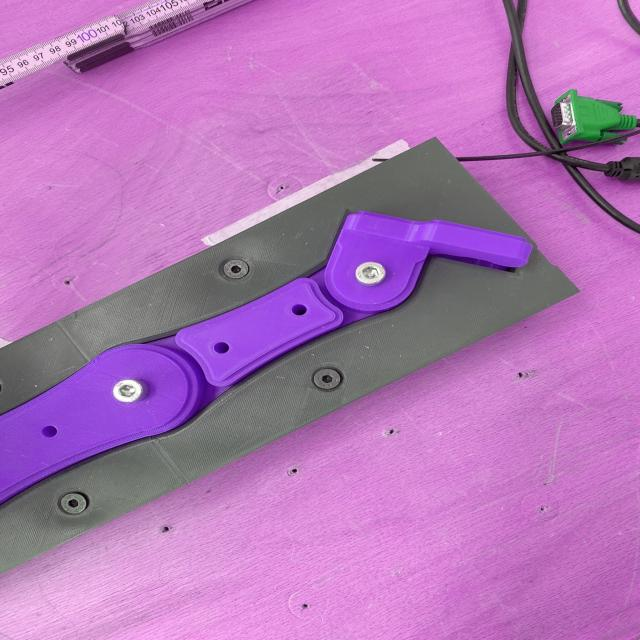HexScrew: (356, 261, 386, 286), (113, 380, 144, 402), (314, 368, 342, 390), (60, 493, 88, 515), (222, 260, 250, 280)
